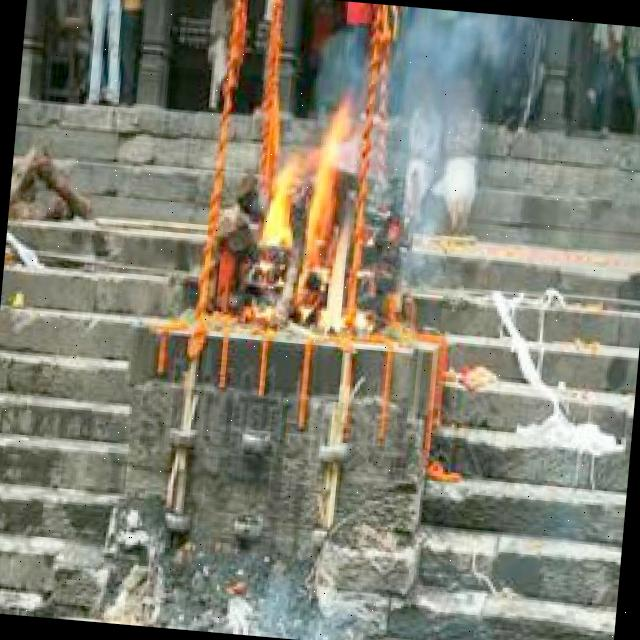fire: (252, 115, 364, 332)
